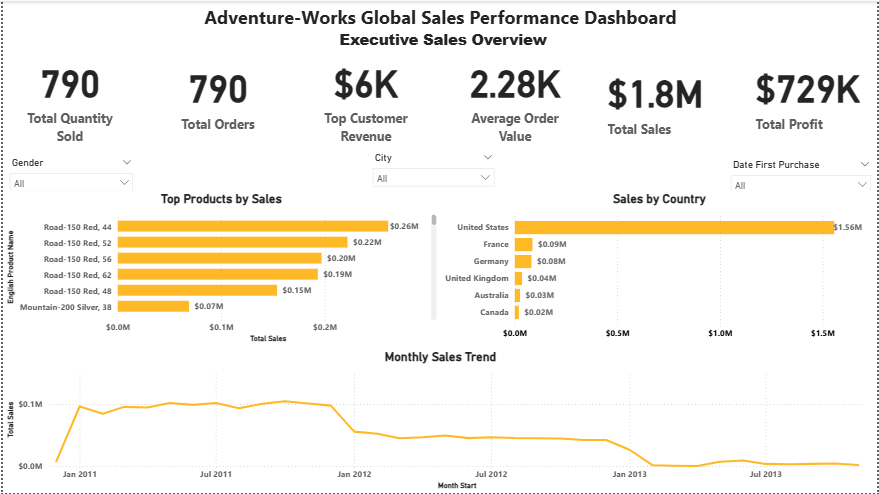

Layout of this report page (visuals, bound fields, positions):
{"tool":"powerbi","page":{"name":"Executive Sales Overview","canvas":[1280,720],"ordinal":0},"visuals":[{"type":"cardVisual","fields":{"Data":["FactInternetSales.Total Sales"]},"box":[867.5,80.5,196.1,143.4],"z":0},{"type":"cardVisual","fields":{"Data":["FactInternetSales.Total Orders"]},"box":[216.9,73.2,196.1,143.4],"z":1000},{"type":"cardVisual","fields":{"Data":["FactInternetSales.Total Quantity Sold"]},"box":[0,73.2,196.1,143.4],"z":2000},{"type":"cardVisual","fields":{"Data":["FactInternetSales.Average Order Value"]},"box":[651.2,73.2,196.1,143.4],"z":3000},{"type":"clusteredBarChart","title":"Top Products by Sales","fields":{"Y":["FactInternetSales.Total Sales"],"Category":["DimProduct.English Product Name"]},"box":[0,278,639.5,226.8],"z":4000},{"type":"clusteredBarChart","title":"Sales by Country","fields":{"Category":["DimGeography.English Country Region Name"],"Y":["FactInternetSales.Total Sales"]},"box":[641,278,639.5,226.8],"z":5000},{"type":"cardVisual","fields":{"Data":["DimCustomer.Top Customer Sales"]},"box":[433.8,73.2,196.1,143.4],"z":6000},{"type":"lineChart","title":"Monthly Sales Trend","fields":{"Y":["FactInternetSales.Total Sales"],"Category":["DimDate.Month Start"]},"box":[0,509.3,1280.5,210.7],"z":7000},{"type":"cardVisual","fields":{"Data":["FactInternetSales.Total Profit"]},"box":[1084.4,73.2,196.1,143.4],"z":8000},{"type":"slicer","fields":{"Values":["DimCustomer.Date First Purchase"]},"box":[1055.1,226.8,225.4,51.2],"z":10000},{"type":"slicer","fields":{"Values":["DimCustomer.Gender"]},"box":[0,223.9,200.5,54.1],"z":11000},{"type":"slicer","fields":{"Values":["DimGeography.City"]},"box":[531.2,216.6,197.6,61.5],"z":12000},{"type":"textbox","box":[0,0,1280.5,80.5],"z":13000}]}

Visuals, with their boxes in screenshot pixels (x1, y1, x2, y2), scaled from the page's 1280x720 canvas onto the 879x494 screenshot:
cardVisual - FactInternetSales.Total Sales: [x1=596, y1=55, x2=730, y2=154]
cardVisual - FactInternetSales.Total Orders: [x1=149, y1=50, x2=284, y2=149]
cardVisual - FactInternetSales.Total Quantity Sold: [x1=0, y1=50, x2=135, y2=149]
cardVisual - FactInternetSales.Average Order Value: [x1=447, y1=50, x2=582, y2=149]
"Top Products by Sales" clusteredBarChart: [x1=0, y1=191, x2=439, y2=346]
"Sales by Country" clusteredBarChart: [x1=440, y1=191, x2=878, y2=346]
cardVisual - DimCustomer.Top Customer Sales: [x1=298, y1=50, x2=433, y2=149]
"Monthly Sales Trend" lineChart: [x1=0, y1=349, x2=878, y2=493]
cardVisual - FactInternetSales.Total Profit: [x1=745, y1=50, x2=878, y2=149]
slicer - DimCustomer.Date First Purchase: [x1=725, y1=156, x2=878, y2=191]
slicer - DimCustomer.Gender: [x1=0, y1=154, x2=138, y2=191]
slicer - DimGeography.City: [x1=365, y1=149, x2=500, y2=191]
textbox: [x1=0, y1=0, x2=878, y2=55]
